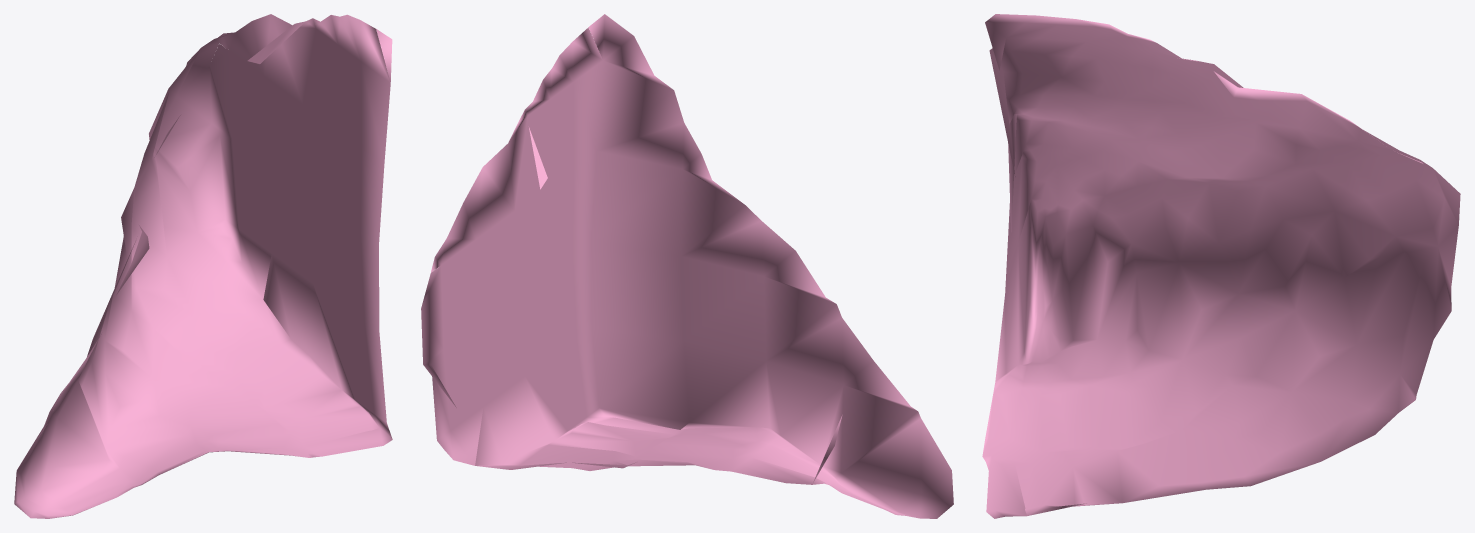
3 views of the same model, side by side, from view 1: azimuth 30°, elevation 25°; view 2: azimuth 150°, elevation 25°; view 3: azimuth 270°, elevation 25° (orthographic). The views are drawn at different scales.
Parts seen in each view (by area): view 1: Switch_Switch_osgPicked_gmeGeoEntityGeode_Geometry_0; view 2: Switch_Switch_osgPicked_gmeGeoEntityGeode_Geometry_0; view 3: Switch_Switch_osgPicked_gmeGeoEntityGeode_Geometry_0.
Part boxes in pixels (x1,y1,x2,y2): Switch_Switch_osgPicked_gmeGeoEntityGeode_Geometry_0: (14,14,392,518); Switch_Switch_osgPicked_gmeGeoEntityGeode_Geometry_0: (421,14,953,518); Switch_Switch_osgPicked_gmeGeoEntityGeode_Geometry_0: (982,14,1460,518).
Bounding box in the file's own units: 2208 × 2398 × 1998.
